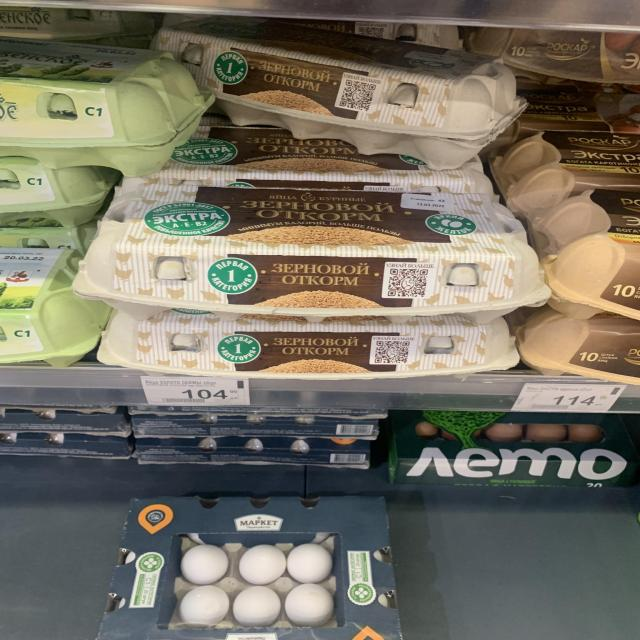organic waste: (84, 185, 546, 321), (103, 309, 523, 383)
